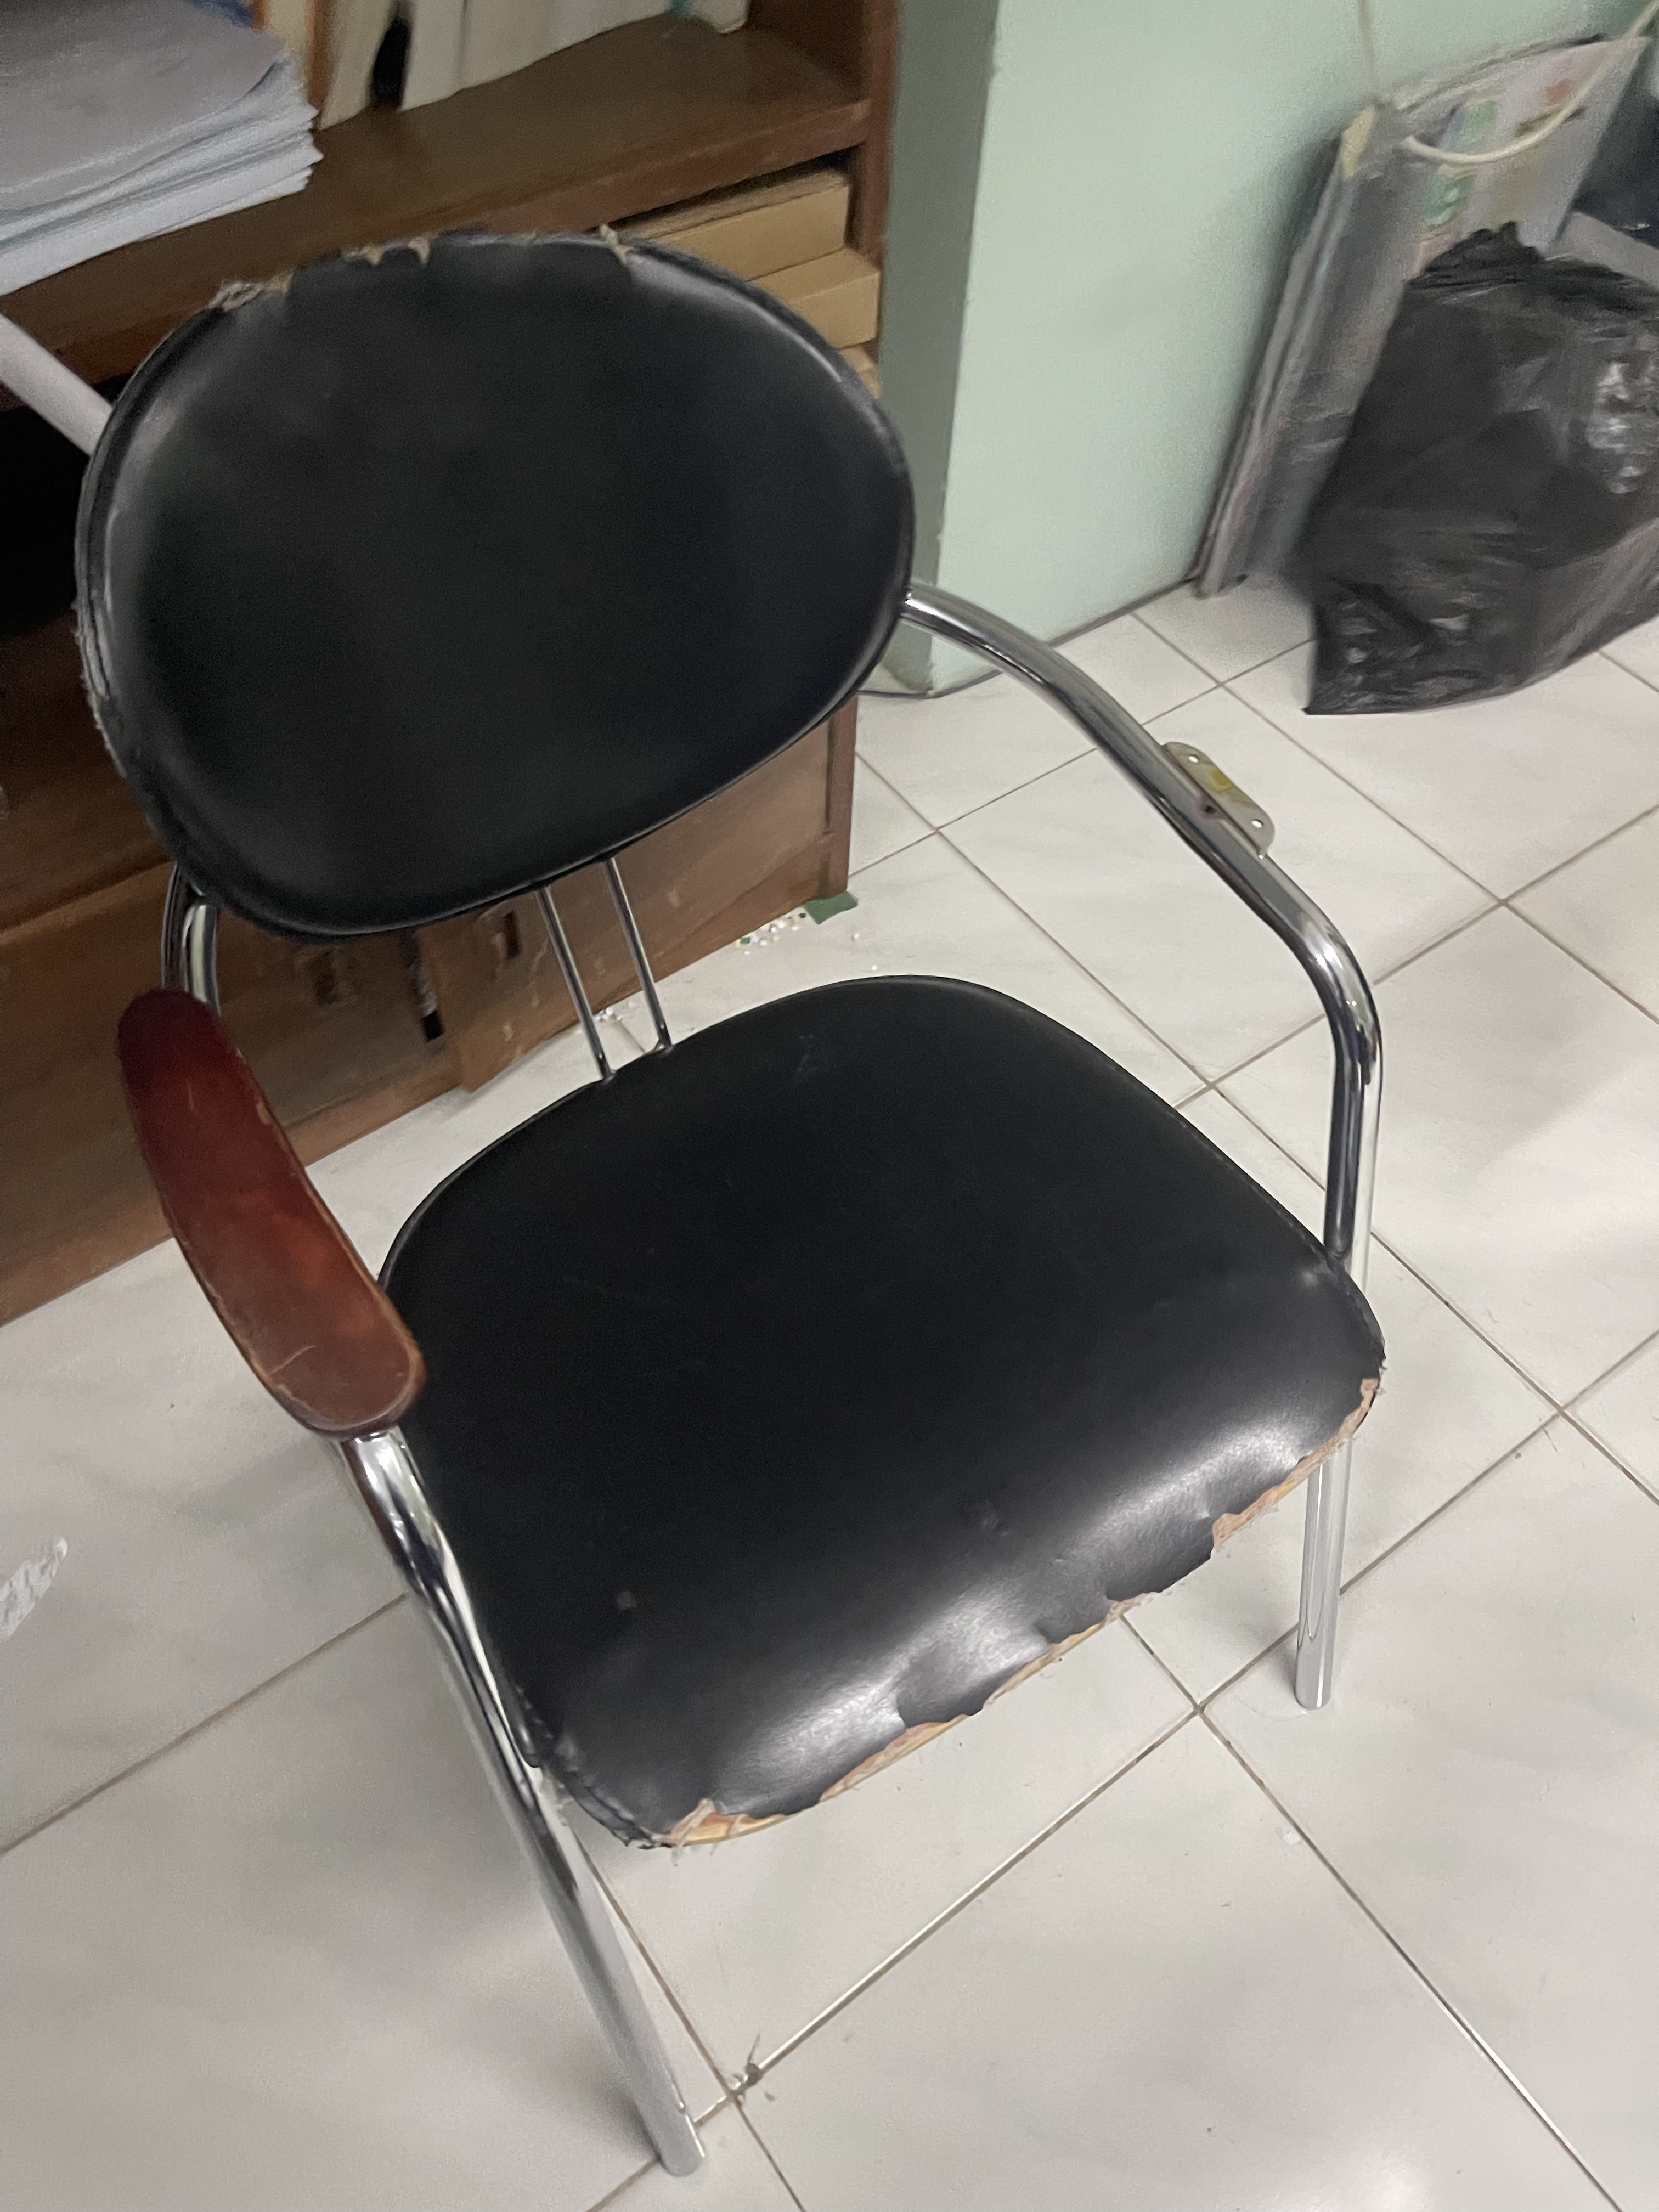chair1: (68, 195, 1389, 2179)
